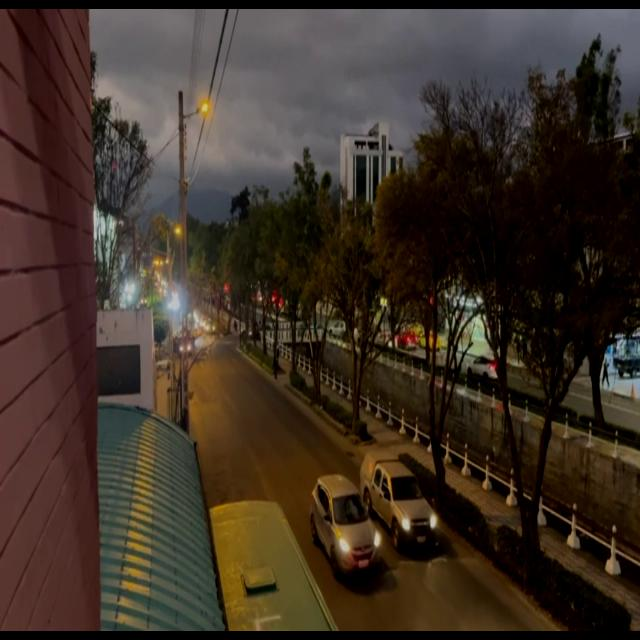CMT: (363, 453, 433, 545)
SUV: (315, 478, 365, 574)
